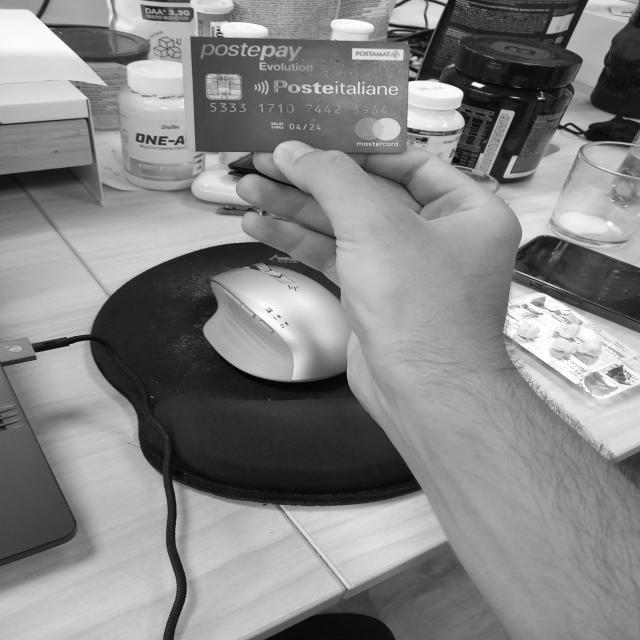card: (182, 36, 409, 154)
